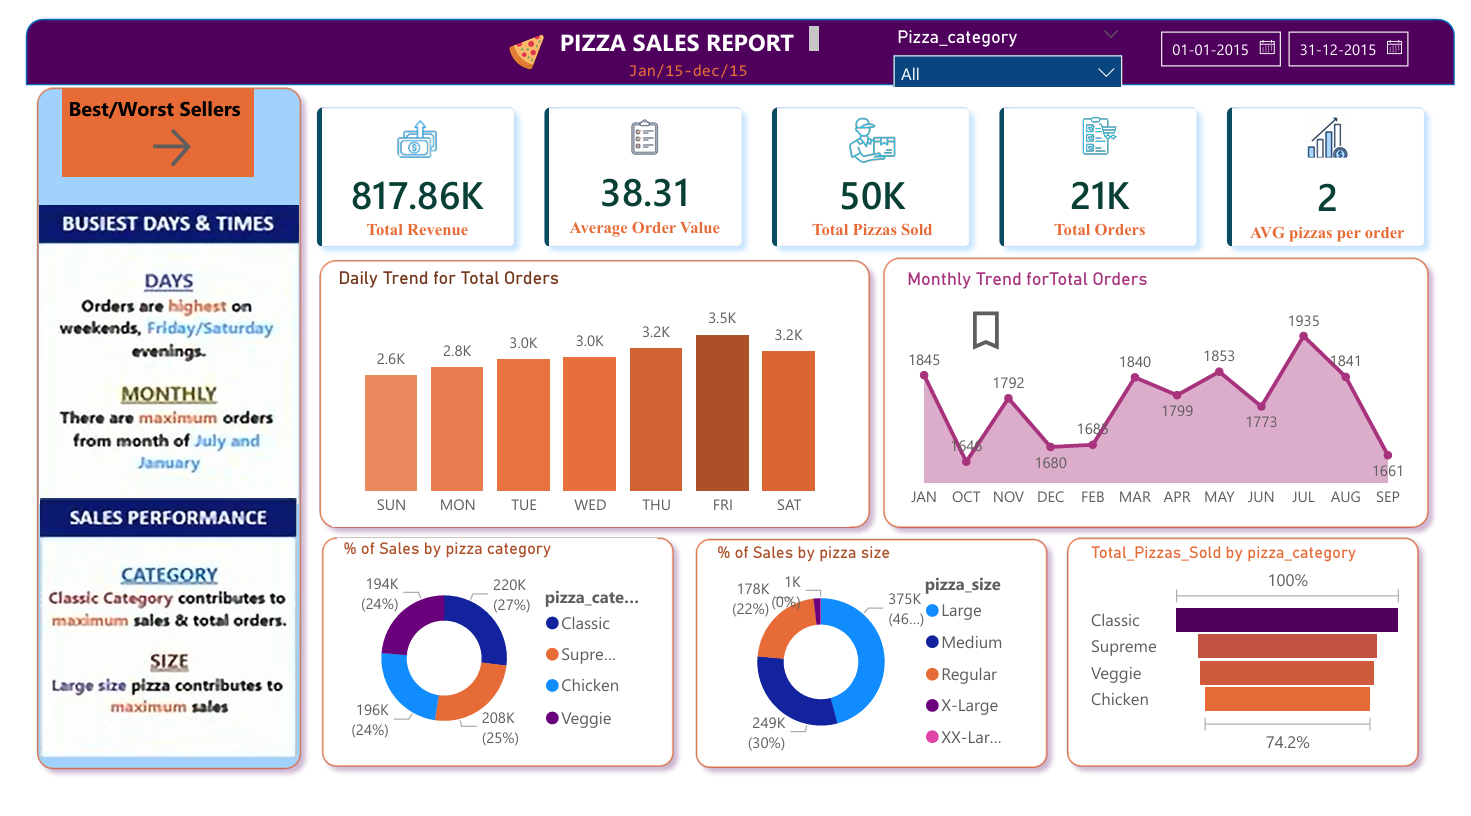

This screenshot's page, from the dashboard's own definition file:
{"tool":"powerbi","page":{"name":"Home","canvas":[1280,720],"ordinal":0},"visuals":[{"type":"cardVisual","fields":{"Data":["pizza_sales.Total Revenue","pizza_sales.Average Order Value","pizza_sales.Total Pizzas Sold","pizza_sales.Total Orders","pizza_sales.Avg pizzas per order"]},"box":[192.2,30,968.9,193.3],"z":0},{"type":"shape","box":[0,0,1143.2,52.6],"z":1000},{"type":"slicer","fields":{"Values":["pizza_sales.pizza_category"]},"box":[684.2,1.1,203.2,52.6],"z":2000},{"type":"slicer","fields":{"Values":["pizza_sales.order_date"]},"box":[894.7,0,228.4,58.9],"z":3000},{"type":"shape","box":[0,45.6,228.9,563.3],"z":4000},{"type":"shape","box":[226.3,184.2,457.9,231.6],"z":5000},{"type":"shape","box":[676.8,182.1,453.7,233.7],"z":6000},{"type":"shape","box":[228.4,406.3,298.9,201.1],"z":7000},{"type":"shape","box":[527.4,407.4,298.9,201.1],"z":8000},{"type":"shape","box":[824.2,406.3,298.9,201.1],"z":9000},{"type":"image","box":[377.9,11.6,44.2,29.5],"z":10000},{"type":"textbox","box":[422.1,1.1,217.9,29.5],"z":11000},{"type":"textbox","box":[476.8,27.4,115.8,27.4],"z":12000},{"type":"columnChart","title":"Daily Trend for Total Orders ","fields":{"Category":["pizza_sales.Order Day"],"Y":["pizza_sales.Total Orders"]},"box":[245.3,198.9,412.6,208.4],"z":13000},{"type":"areaChart","title":"Monthly Trend forTotal Orders ","fields":{"Y":["pizza_sales.Total Orders"],"Category":["pizza_sales.Order Month"]},"box":[700,200,408.4,200],"z":14000},{"type":"donutChart","title":"% of Sales by pizza category","fields":{"Category":["pizza_sales.pizza_category"],"Y":["pizza_sales.Total Revenue"]},"box":[249.5,415.8,255.8,176.8],"z":15000},{"type":"donutChart","title":"% of Sales by pizza size","fields":{"Y":["pizza_sales.Total Revenue"],"Category":["pizza_sales.pizza_size"]},"box":[548.4,418.9,255.8,176.8],"z":16000},{"type":"funnel","fields":{"Y":["pizza_sales.Total_Pizzas_Sold"],"Category":["pizza_sales.pizza_category"]},"box":[847.4,418.9,261.1,173.7],"z":17000},{"type":"image","box":[10.5,144.2,208.4,248.4],"z":18000},{"type":"image","box":[11.6,291.6,205.3,392.6],"z":19000},{"type":"actionButton","box":[747.8,228.9,100,40],"z":23000},{"type":"pageNavigator","box":[18.9,94.4,152.2,41.1],"z":24000},{"type":"actionButton","box":[81.1,80,66.7,46.7],"z":25000},{"type":"textbox","box":[28.9,55.6,153.3,71.1],"z":26000},{"type":"actionButton","box":[95.6,83.3,100,40],"z":26001}]}

Visuals, with their boxes in screenshot pixels (x1, y1, x2, y2), scaled from the page's 1280x720 canvas onto the 1471x816 screenshot:
cardVisual - pizza_sales.Total Revenue x pizza_sales.Average Order Value: (x1=221, y1=34, x2=1334, y2=253)
shape: (x1=0, y1=0, x2=1314, y2=60)
slicer - pizza_sales.pizza_category: (x1=786, y1=1, x2=1020, y2=61)
slicer - pizza_sales.order_date: (x1=1028, y1=0, x2=1291, y2=67)
shape: (x1=0, y1=52, x2=263, y2=690)
shape: (x1=260, y1=209, x2=786, y2=471)
shape: (x1=778, y1=206, x2=1299, y2=471)
shape: (x1=262, y1=460, x2=606, y2=688)
shape: (x1=606, y1=462, x2=950, y2=690)
shape: (x1=947, y1=460, x2=1291, y2=688)
image: (x1=434, y1=13, x2=485, y2=47)
textbox: (x1=485, y1=1, x2=736, y2=35)
textbox: (x1=548, y1=31, x2=681, y2=62)
"Daily Trend for Total Orders " columnChart: (x1=282, y1=225, x2=756, y2=462)
"Monthly Trend forTotal Orders " areaChart: (x1=804, y1=227, x2=1274, y2=453)
"% of Sales by pizza category" donutChart: (x1=287, y1=471, x2=581, y2=672)
"% of Sales by pizza size" donutChart: (x1=630, y1=475, x2=924, y2=675)
funnel - pizza_sales.Total_Pizzas_Sold x pizza_sales.pizza_category: (x1=974, y1=475, x2=1274, y2=672)
image: (x1=12, y1=163, x2=252, y2=445)
image: (x1=13, y1=330, x2=249, y2=775)
actionButton: (x1=859, y1=259, x2=974, y2=305)
pageNavigator: (x1=22, y1=107, x2=197, y2=154)
actionButton: (x1=93, y1=91, x2=170, y2=144)
textbox: (x1=33, y1=63, x2=209, y2=144)
actionButton: (x1=110, y1=94, x2=225, y2=140)
